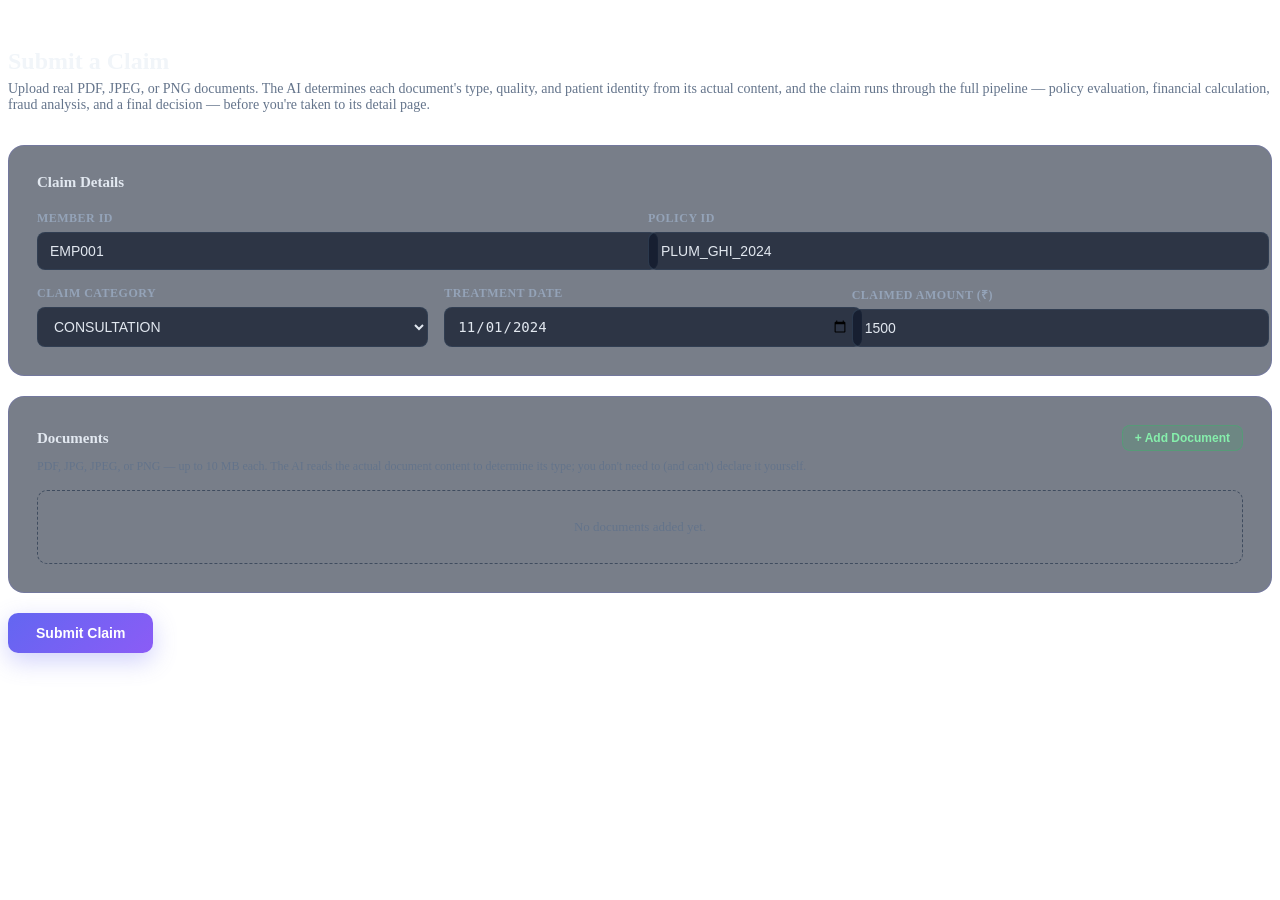
Scenario: ClaimSubmission › blocks submission with no documents attached
Click the button "Submit Claim": {"x": 81, "y": 633} [8,613,154,653]
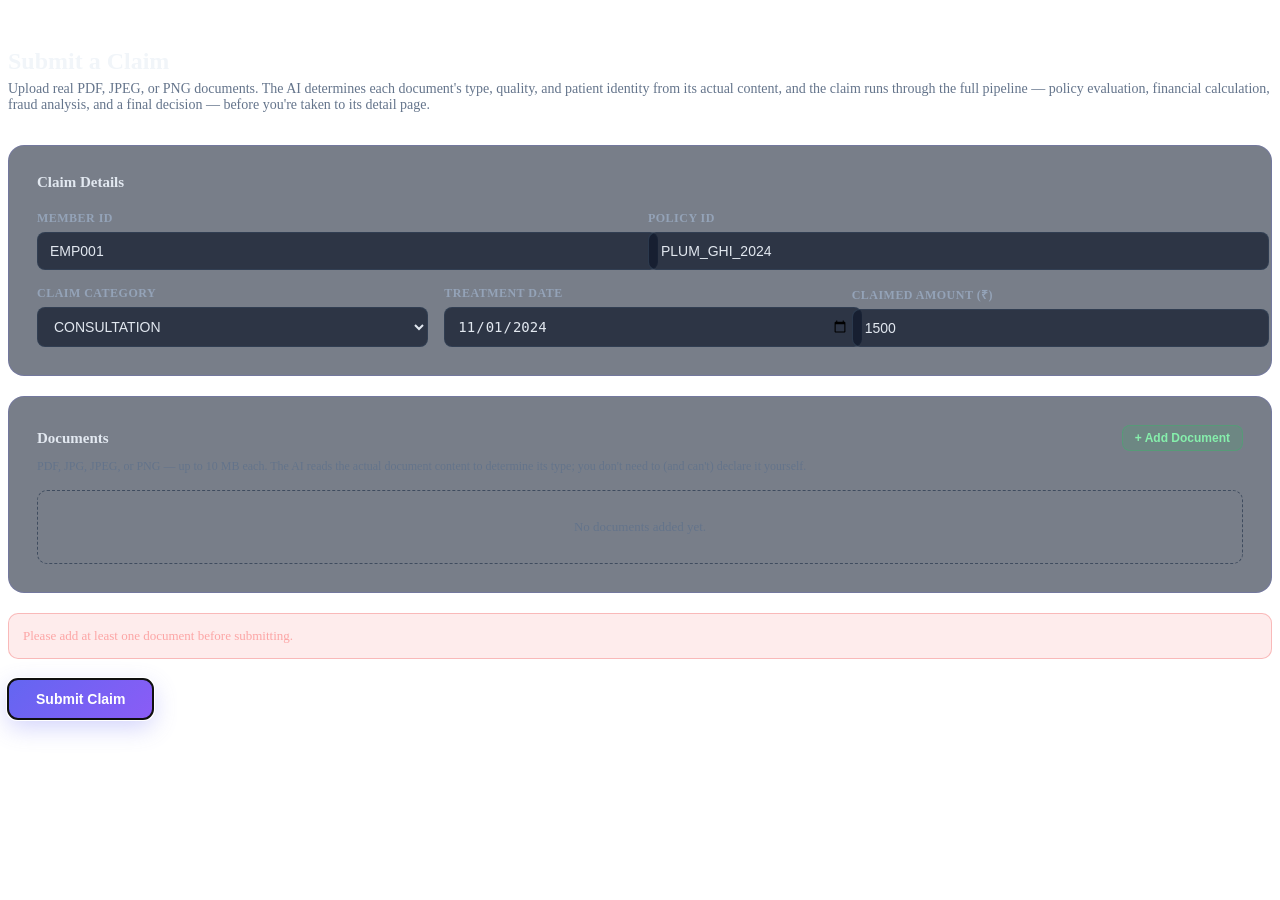
Result: the text "Please add at least one document before submitting." is shown at [8,613,1272,659]
